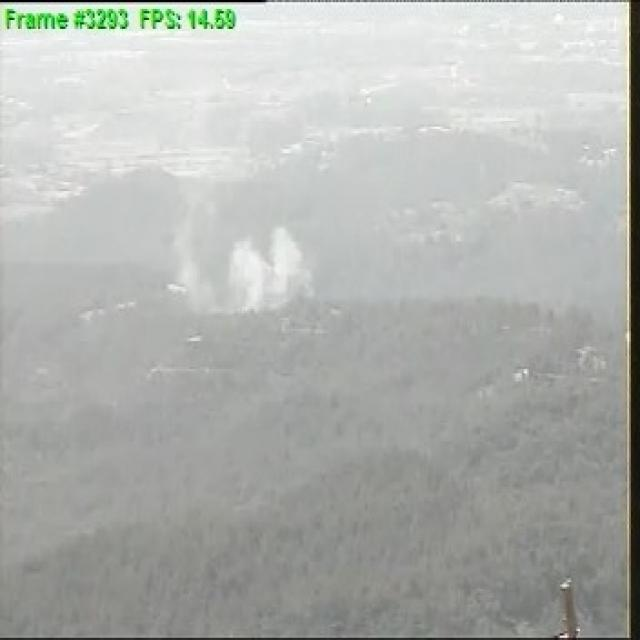smoke: (178, 227, 317, 310)
